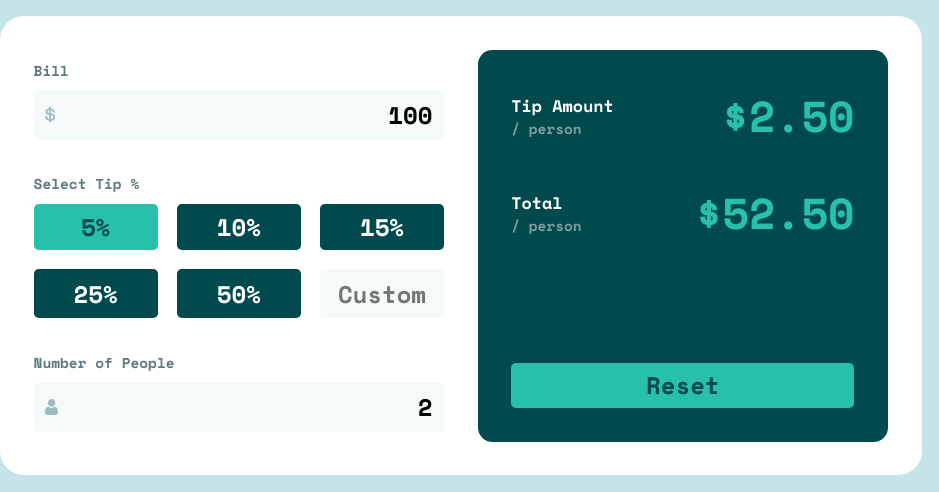
Test: test TipCalculator component › events test › test calculation with custom tip input
The image size is (939, 492).
Type "10" into the number field with placeholder "Custom" at (382, 294), box [332,276,432,312]
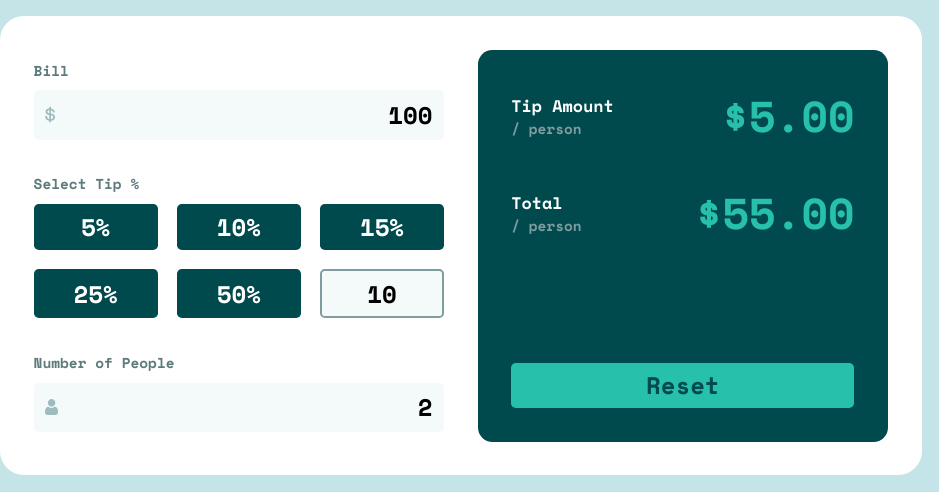
Check: the text "$5.00" is shown, box [722,84,854,148]
Check: the text "$55.00" is shown, box [696,181,854,245]
